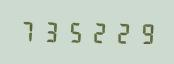five: (64, 19, 86, 43)
nine: (133, 20, 155, 45)
seven: (17, 18, 39, 43)
three: (40, 19, 62, 43)
two: (87, 20, 109, 44), (110, 20, 132, 44)
